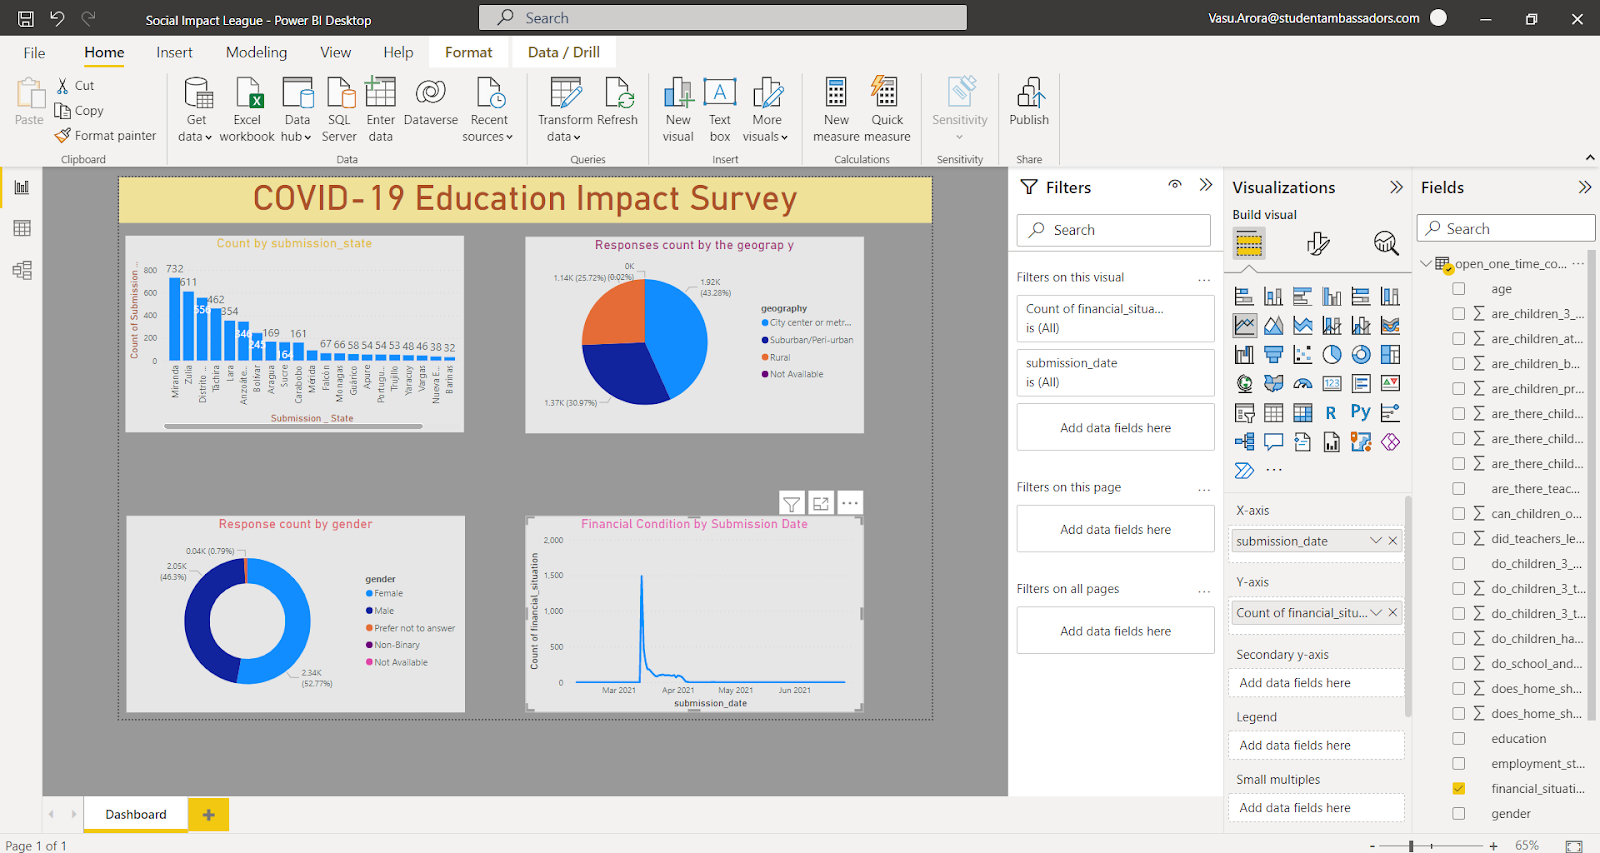

What the dashboard file says about the page in this screenshot:
{"tool":"powerbi","page":{"name":"Dashboard","canvas":[1200,800],"ordinal":0},"visuals":[{"type":"textbox","title":"COVID-19 Education Impact Survey","box":[0,0,1200,67],"z":0},{"type":"clusteredColumnChart","title":"Count by submission_state","fields":{"Category":["open_one_time_covid_education_impact.submission_state"],"Y":["CountNonNull(open_one_time_covid_education_impact.submission_state)"]},"box":[9.6,86.7,500,290.4],"z":1000},{"type":"pieChart","title":"Responses count by the geograp y","fields":{"Category":["open_one_time_covid_education_impact.geography"],"Y":["CountNonNull(open_one_time_covid_education_impact.geography)"]},"box":[600,87,500,290],"z":2000},{"type":"donutChart","title":"Response count by gender","fields":{"Y":["CountNonNull(open_one_time_covid_education_impact.gender)"],"Category":["open_one_time_covid_education_impact.gender"]},"box":[10,500,500,290],"z":3000},{"type":"lineChart","title":"Financial Condition by Submission Date","fields":{"Y":["CountNonNull(open_one_time_covid_education_impact.financial_situation)"],"Category":["open_one_time_covid_education_impact.submission_date"]},"box":[600,500,500,290],"z":3001}]}

Visuals, with their boxes on the page's 1200x800 design canvas (x1, y1, x2, y2). These are canvas units, not pixel positions in the 1600x853 screenshot, which may show the page scaled, cropped or inside an application window:
"COVID-19 Education Impact Survey" textbox: {"left": 0, "top": 0, "right": 1200, "bottom": 67}
"Count by submission_state" clusteredColumnChart: {"left": 10, "top": 87, "right": 510, "bottom": 377}
"Responses count by the geograp y" pieChart: {"left": 600, "top": 87, "right": 1100, "bottom": 377}
"Response count by gender" donutChart: {"left": 10, "top": 500, "right": 510, "bottom": 790}
"Financial Condition by Submission Date" lineChart: {"left": 600, "top": 500, "right": 1100, "bottom": 790}
